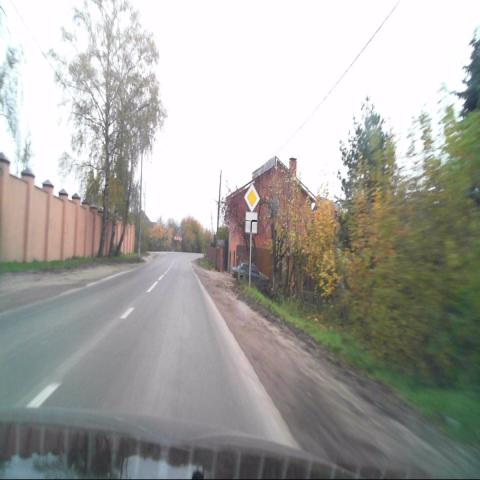8_13: (244, 212, 258, 234)
